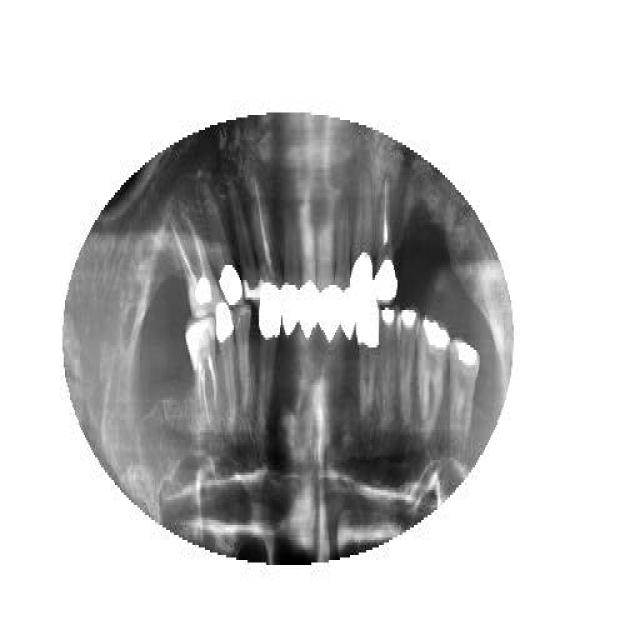Fillings: (448, 338, 482, 452), (418, 315, 448, 443), (255, 295, 283, 425), (210, 208, 246, 302), (372, 182, 398, 308), (215, 298, 236, 428), (380, 302, 401, 428), (281, 288, 304, 398), (299, 280, 320, 398), (350, 198, 374, 300), (321, 285, 344, 390), (398, 308, 418, 428), (358, 295, 378, 377), (342, 290, 358, 382)
Implant: (170, 215, 225, 315), (185, 312, 219, 432)
